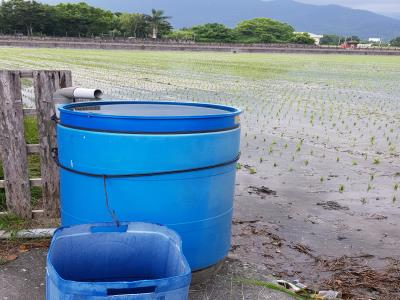bucket: (52, 101, 243, 274), (45, 222, 194, 300)
